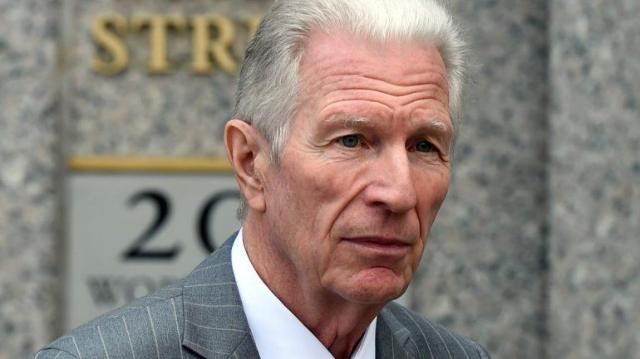chin: (369, 258, 397, 276)
crows_feet: (433, 140, 452, 172), (308, 136, 328, 158)
forehead: (324, 72, 366, 104), (371, 70, 401, 112), (406, 77, 442, 109)
gummy_smile: (331, 188, 364, 229), (411, 205, 425, 239)
